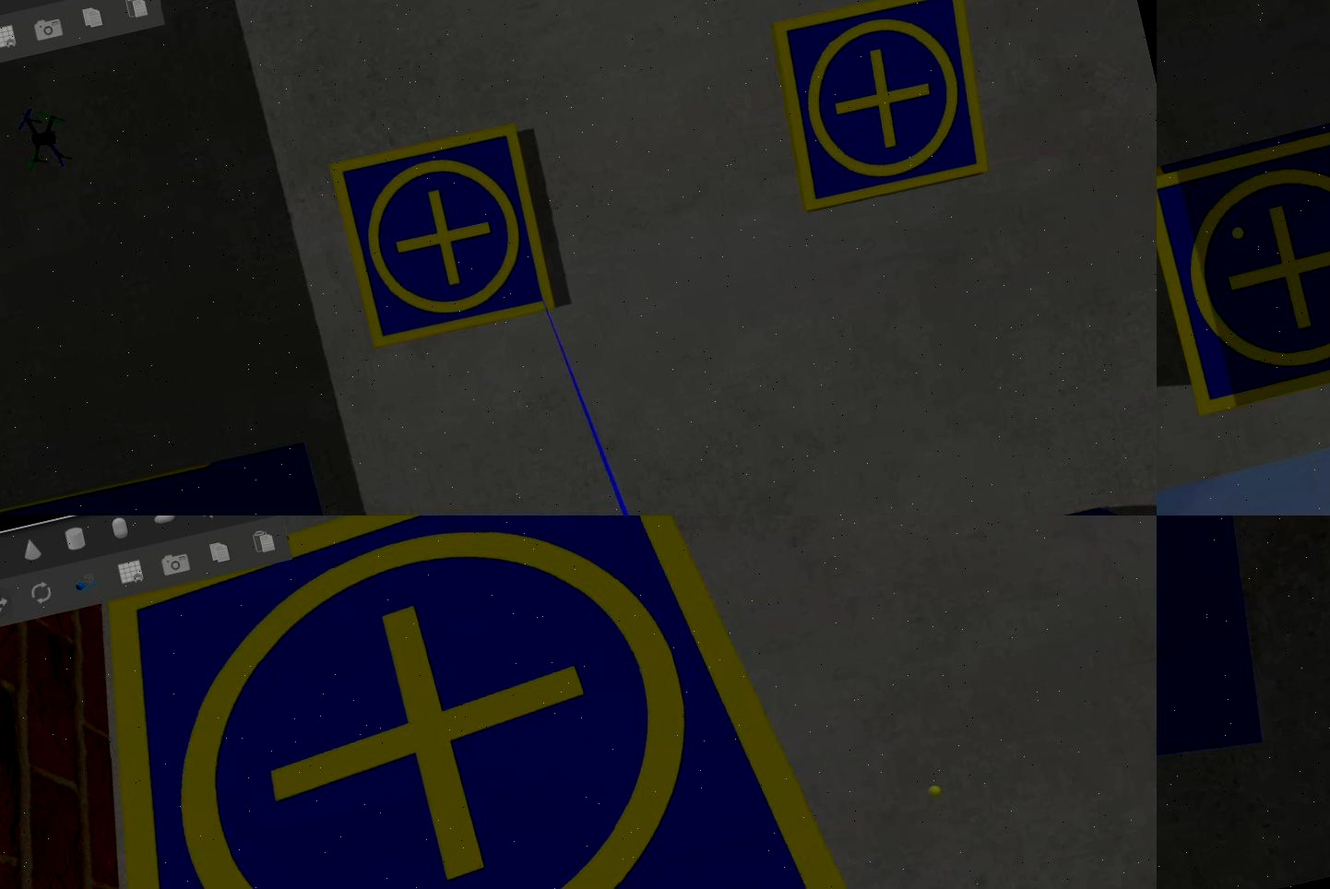large_base: (1158, 516, 1322, 868), (1, 433, 396, 516)
small_base: (4, 516, 889, 889), (328, 121, 563, 356), (765, 1, 1006, 219), (1158, 122, 1330, 421)
